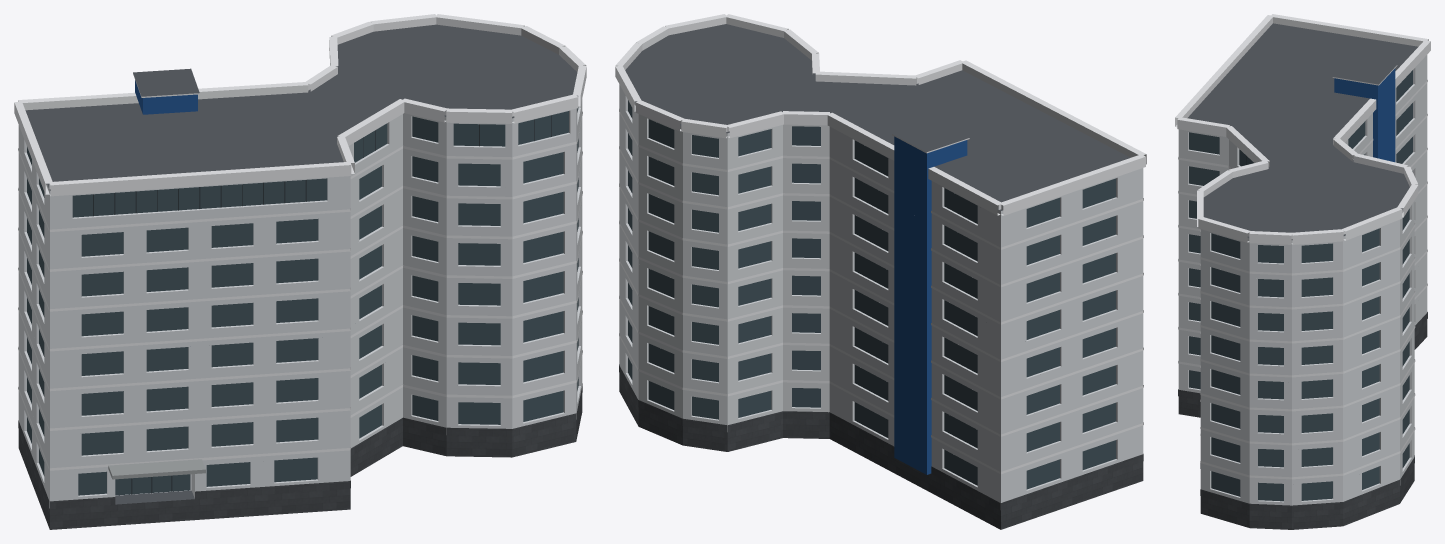
3 renders of one model, left to right at view 1: azimuth 30°, elevation 25°; view 2: azimuth 150°, elevation 25°; view 3: azimuth 270°, elevation 25°, orthographic. The views are drawn at different scales.
Parts seen in each view (by area): view 1: biomed__wall, biomed__glass, biomed__roof, biomed__trim, biomed__base, biomed__canopy, biomed__wall2; view 2: biomed__wall, biomed__glass, biomed__roof, biomed__trim, biomed__base, biomed__wall2; view 3: biomed__wall, biomed__roof, biomed__glass, biomed__trim, biomed__base, biomed__wall2.
Part boxes in pixels (x1,y1,x2,y2): biomed__wall: [18, 96, 582, 508]; biomed__glass: [27, 107, 578, 495]; biomed__roof: [25, 24, 577, 504]; biomed__trim: [14, 14, 586, 470]; biomed__base: [18, 383, 582, 529]; biomed__canopy: [108, 459, 205, 479]; biomed__wall2: [135, 80, 197, 114]; biomed__wall: [619, 84, 1143, 509]; biomed__glass: [628, 100, 1115, 489]; biomed__roof: [625, 24, 1130, 210]; biomed__trim: [615, 14, 1146, 473]; biomed__base: [619, 364, 1143, 529]; biomed__wall2: [894, 136, 967, 474]; biomed__wall: [1178, 55, 1427, 505]; biomed__roof: [1187, 23, 1418, 240]; biomed__glass: [1189, 70, 1412, 501]; biomed__trim: [1175, 14, 1430, 479]; biomed__base: [1178, 312, 1427, 529]; biomed__wall2: [1334, 68, 1395, 162].
Size of the model in its own units: 53.14 by 34.9 by 25.94.
9 materials, 1 textured.
